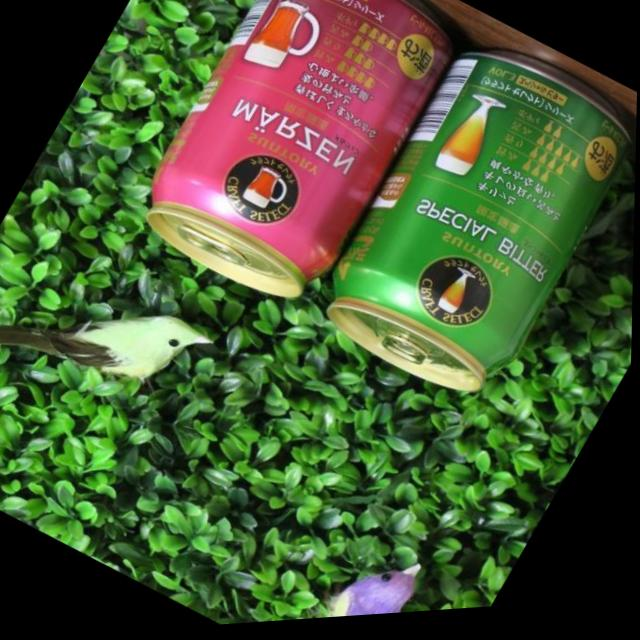metal: (330, 53, 634, 389), (148, 0, 449, 296)
